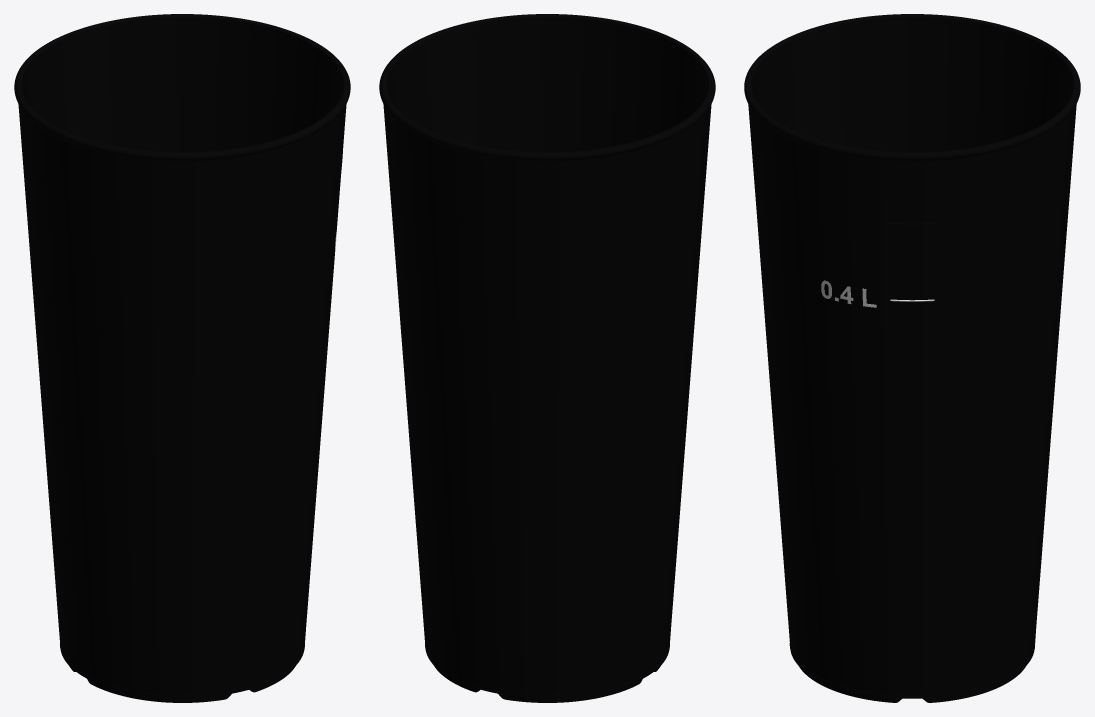
3 views of the same model, side by side, from view 1: azimuth 30°, elevation 25°; view 2: azimuth 150°, elevation 25°; view 3: azimuth 270°, elevation 25° (orthographic).
Visible parts, largest first — view 1: Test generische Becher Artwork.017, Test generische Becher Artwork.015; view 2: Test generische Becher Artwork.017, Test generische Becher Artwork.015; view 3: Test generische Becher Artwork.017, Test generische Becher Artwork.015.
Boxes of the visible parts, left/top/right/bottom form: Test generische Becher Artwork.017: left=18, top=104, right=346, bottom=697; Test generische Becher Artwork.015: left=14, top=14, right=350, bottom=702; Test generische Becher Artwork.017: left=383, top=104, right=711, bottom=697; Test generische Becher Artwork.015: left=379, top=14, right=715, bottom=702; Test generische Becher Artwork.017: left=748, top=104, right=1076, bottom=698; Test generische Becher Artwork.015: left=744, top=14, right=1080, bottom=702.
Bounding box in the file's own units: 0.0845 × 0.158 × 0.0845.
Materials: 2 (1 with a texture image).
